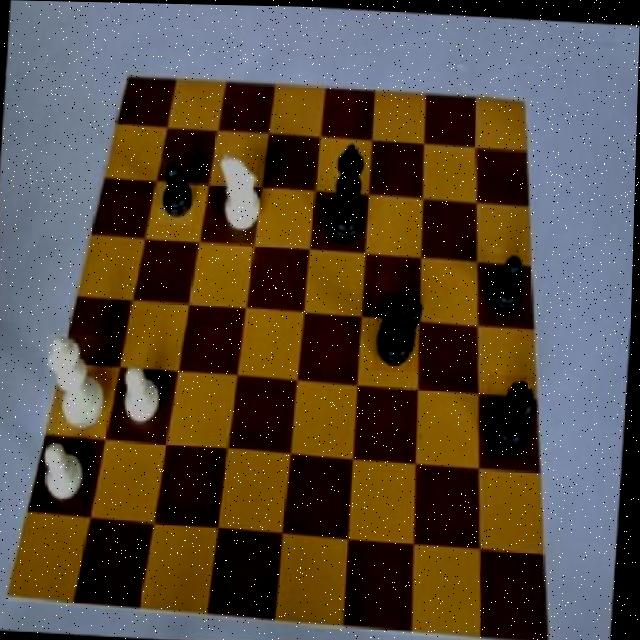black-bishop: (326, 137, 378, 247)
black-king: (375, 290, 424, 371)
black-knight: (487, 252, 530, 321), (159, 158, 198, 223)
black-queen: (486, 372, 541, 459)
white-bishop: (44, 333, 114, 437)
white-king: (215, 152, 271, 235)
white-knight: (40, 438, 96, 509), (122, 364, 168, 434)
